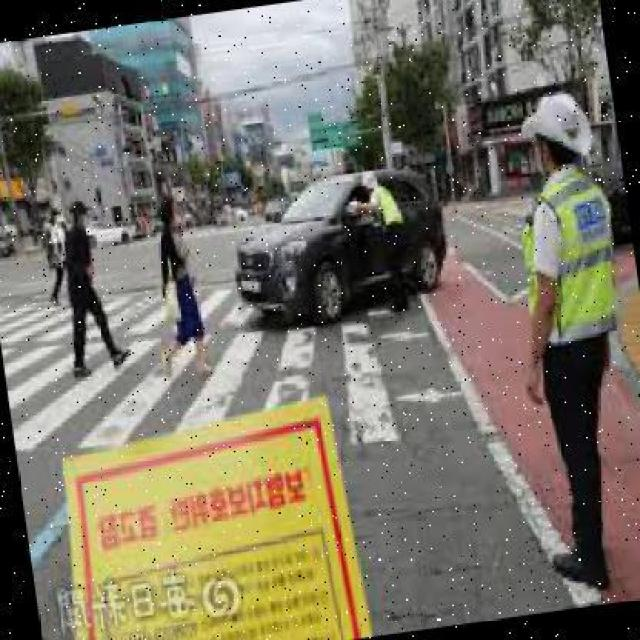Person: (488, 96, 638, 586), (140, 188, 212, 375), (48, 201, 124, 376)
